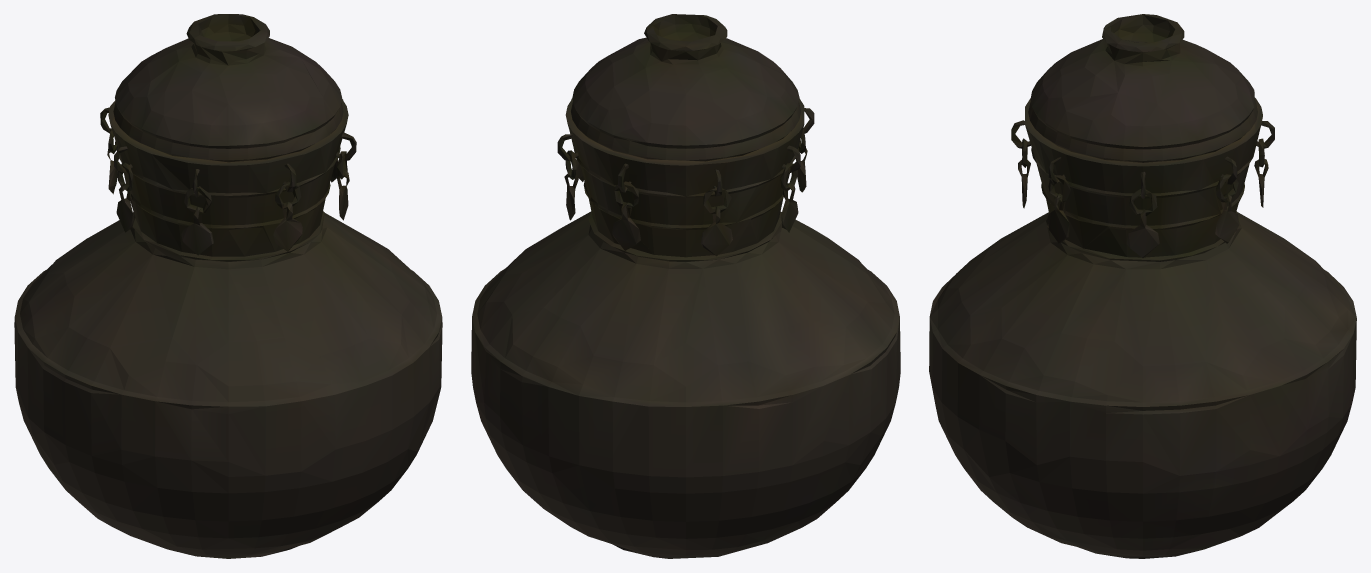
Rendered from long_necked_jar_641e45ab.glb.
The picture shows the model from 3 angles, left to right: view 1: azimuth 30°, elevation 25°; view 2: azimuth 150°, elevation 25°; view 3: azimuth 270°, elevation 25°; orthographic projection.
Visible parts, largest first — view 1: SM_24FO0031_low_SM_24FO0031_low_0; view 2: SM_24FO0031_low_SM_24FO0031_low_0; view 3: SM_24FO0031_low_SM_24FO0031_low_0.
Part boxes in pixels (box(x1,y1,x2,y2)): SM_24FO0031_low_SM_24FO0031_low_0: box(14, 14, 442, 558); SM_24FO0031_low_SM_24FO0031_low_0: box(471, 14, 900, 558); SM_24FO0031_low_SM_24FO0031_low_0: box(929, 14, 1356, 558).
Bounding box in the file's own units: 0.2818 × 0.3561 × 0.2816.
